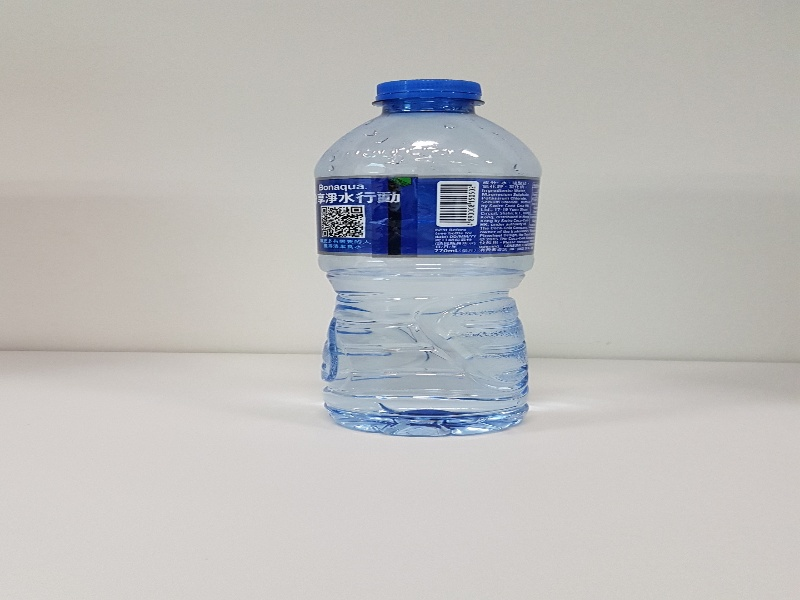Bottle: (316, 75, 543, 442)
